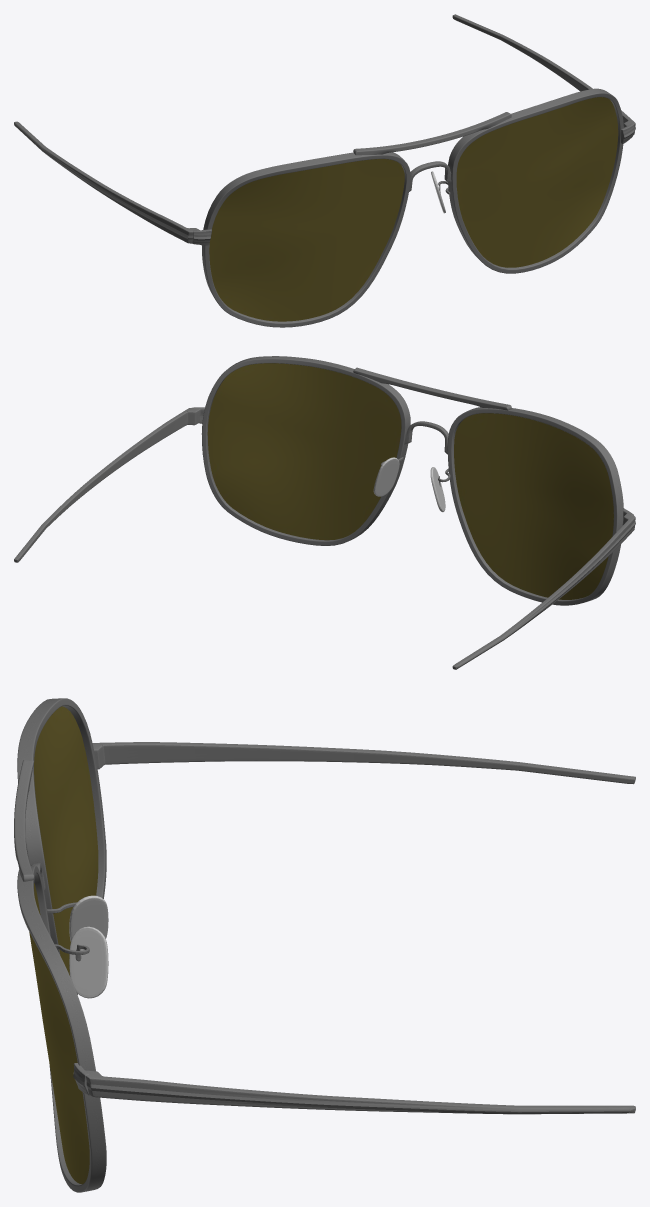
Rendered from Chromance_UV.glb.
The picture shows the model from 3 angles, top to bottom: view 1: azimuth 30°, elevation 25°; view 2: azimuth 150°, elevation 25°; view 3: azimuth 270°, elevation 25°; orthographic projection. The views are drawn at different scales.
Parts seen in each view (by area): view 1: Lentes, armacao; view 2: Lentes, armacao, Pontes; view 3: armacao, Lentes, Pontes.
Boxes of the visible parts, x1,y1,x2,y2 form: Lentes: (209,97,618,321); armacao: (14,14,635,327); Lentes: (207,363,613,599); armacao: (14,356,635,669); Pontes: (373,457,445,512); armacao: (14,698,635,1192); Lentes: (29,706,98,1184); Pontes: (69,895,108,998).
Size of the model in its own units: 0.1573 by 0.0556 by 0.1173.
2 materials, 2 textured.
